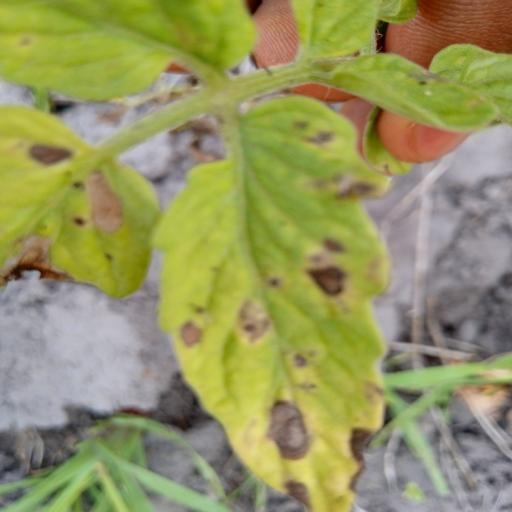Tomato_Brown_Spots: (140, 90, 398, 512)
